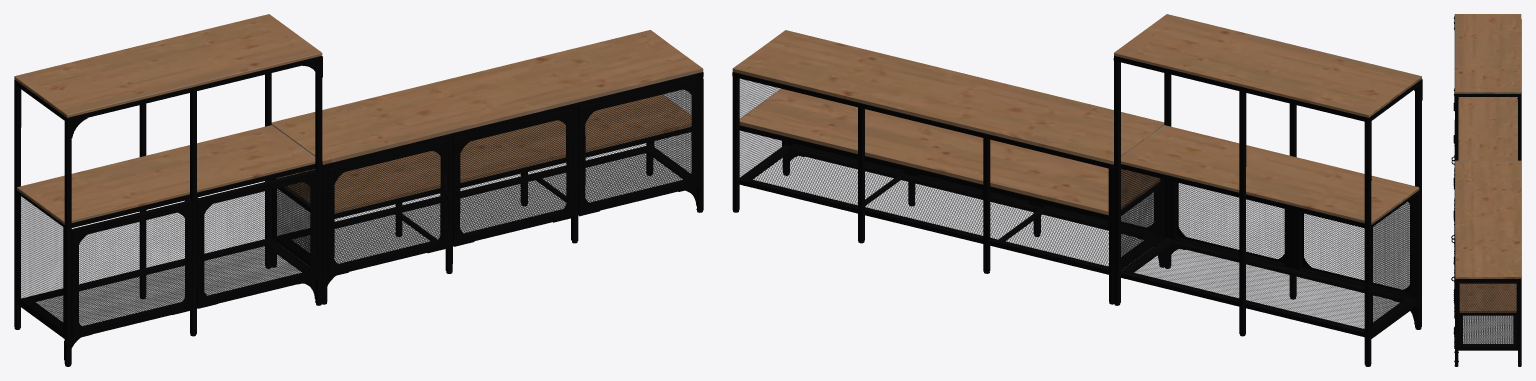
The model's file is 34 - FJÄLLBO - 電視收納組合, 黑色, 250x36x95 公分 IKEA 線上購物.glb.
The picture shows the model from 3 angles, left to right: view 1: azimuth 30°, elevation 25°; view 2: azimuth 150°, elevation 25°; view 3: azimuth 270°, elevation 25°; orthographic projection. The views are drawn at different scales.
Parts seen in each view (by area): view 1: 59191267_79191266:5, 59191267_79191266:15; view 2: 59191267_79191266:5, 59191267_79191266:15; view 3: 59191267_79191266:5, 59191267_79191266:15.
Part boxes in pixels (x1=…): 59191267_79191266:5: x1=14, y1=14, x2=703, y2=366; 59191267_79191266:15: x1=17, y1=89, x2=691, y2=335; 59191267_79191266:5: x1=732, y1=14, x2=1422, y2=366; 59191267_79191266:15: x1=739, y1=79, x2=1418, y2=335; 59191267_79191266:5: x1=1451, y1=14, x2=1521, y2=366; 59191267_79191266:15: x1=1459, y1=283, x2=1516, y2=349.
Size of the model in its own units: 2.5 by 0.9455 by 0.3811.
Materials: 2 (2 with a texture image).
